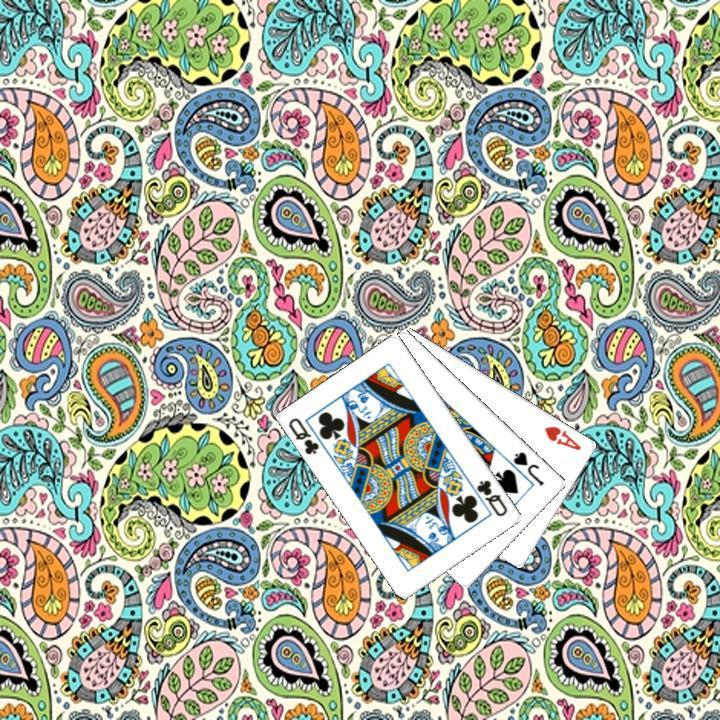A: (540, 421, 583, 452)
J: (509, 447, 546, 488)
Q: (472, 475, 510, 519), (284, 413, 322, 457)
